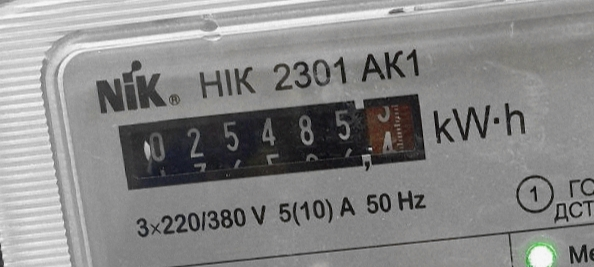0: (143, 127, 168, 164)
2: (182, 123, 206, 160)
4: (254, 112, 279, 148), (375, 126, 397, 156)
5: (329, 105, 354, 144), (218, 116, 241, 153)
8: (293, 109, 317, 148)
screen: (107, 84, 435, 202)
